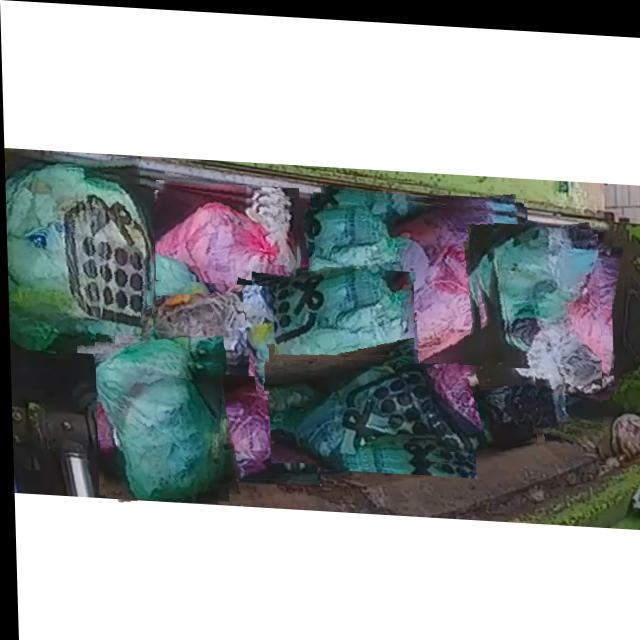general_trashbag: (4, 167, 152, 352), (474, 225, 612, 387), (495, 219, 600, 422), (268, 358, 471, 461), (252, 264, 413, 389), (95, 342, 220, 500)
other_trashbag: (314, 187, 524, 384), (316, 200, 522, 381), (154, 195, 297, 298), (212, 375, 312, 478), (152, 279, 272, 361), (439, 362, 533, 446)
